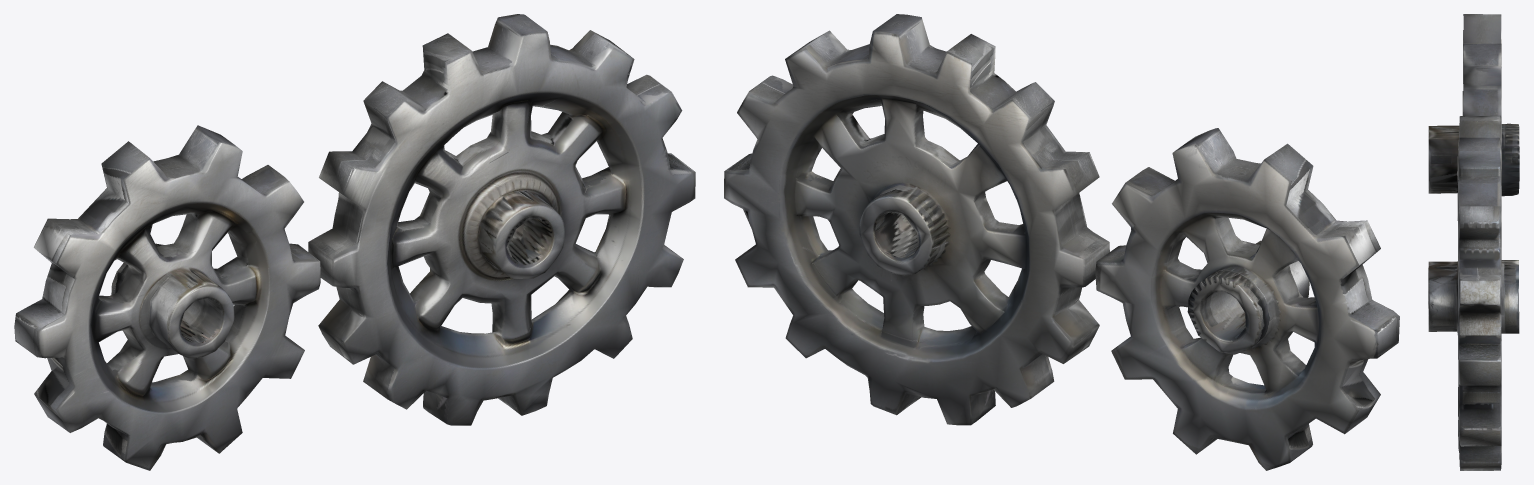
The model's file is cogwheel.glb.
3 views of the same model, side by side, from view 1: azimuth 30°, elevation 25°; view 2: azimuth 150°, elevation 25°; view 3: azimuth 270°, elevation 25° (orthographic). The views are drawn at different scales.
Size of the model in its own units: 2.01 by 1.11 by 0.2839.
Materials: 1 (1 with a texture image).
